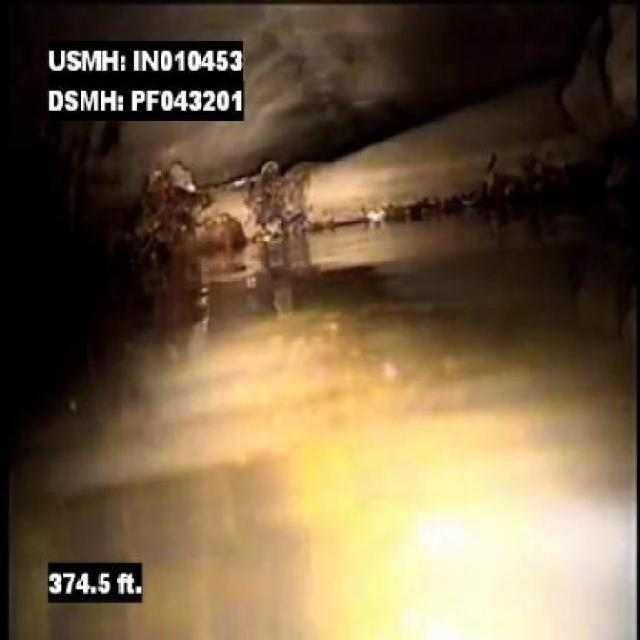Utility intrusion: (146, 118, 537, 250)
